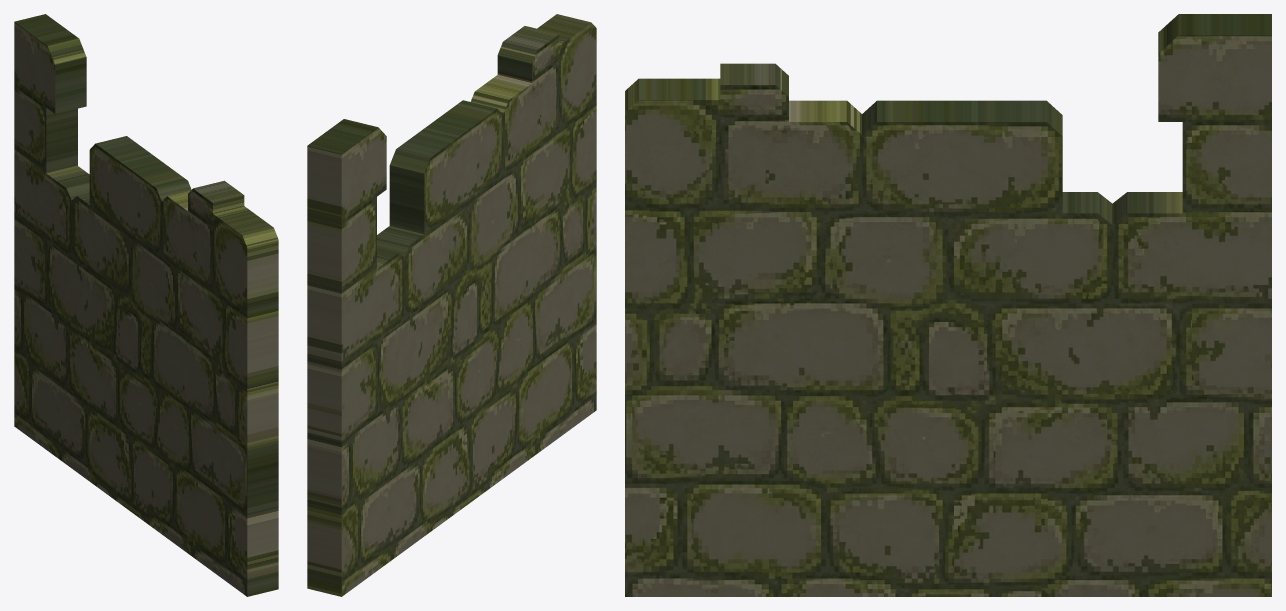
File: Break_Wall_2.fbx
3 views of the same model, side by side, from view 1: azimuth 30°, elevation 25°; view 2: azimuth 150°, elevation 25°; view 3: azimuth 270°, elevation 25° (orthographic). The views are drawn at different scales.
Parts seen in each view (by area): view 1: Plane.009; view 2: Plane.009; view 3: Plane.009.
Part boxes in pixels (box(x1,y1,x2,y2)): Plane.009: box(14, 14, 278, 596); Plane.009: box(307, 14, 596, 596); Plane.009: box(625, 14, 1271, 596).
Bounding box in the file's own units: 44.34 × 545 × 568.
